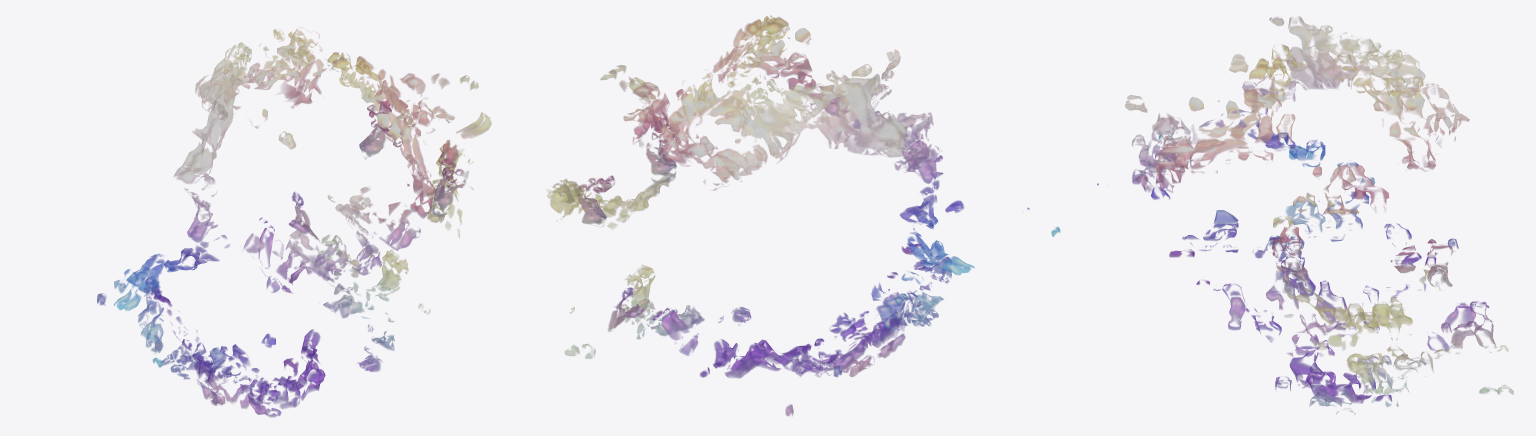
File: cassiopeia_newar.glb
3 views of the same model, side by side, from view 1: azimuth 30°, elevation 25°; view 2: azimuth 150°, elevation 25°; view 3: azimuth 270°, elevation 25° (orthographic). The views are drawn at different scales.
Parts seen in each view (by area): view 1: Newar.002_baked.001; view 2: Newar.002_baked.001; view 3: Newar.002_baked.001.
Boxes of the visible parts, left/top/right/bottom form: Newar.002_baked.001: left=97, top=27, right=491, bottom=417; Newar.002_baked.001: left=547, top=15, right=1060, bottom=416; Newar.002_baked.001: left=1097, top=16, right=1513, bottom=414.
Bounding box in the file's own units: 84.84 × 67.03 × 70.87.
1 material, 1 textured.
